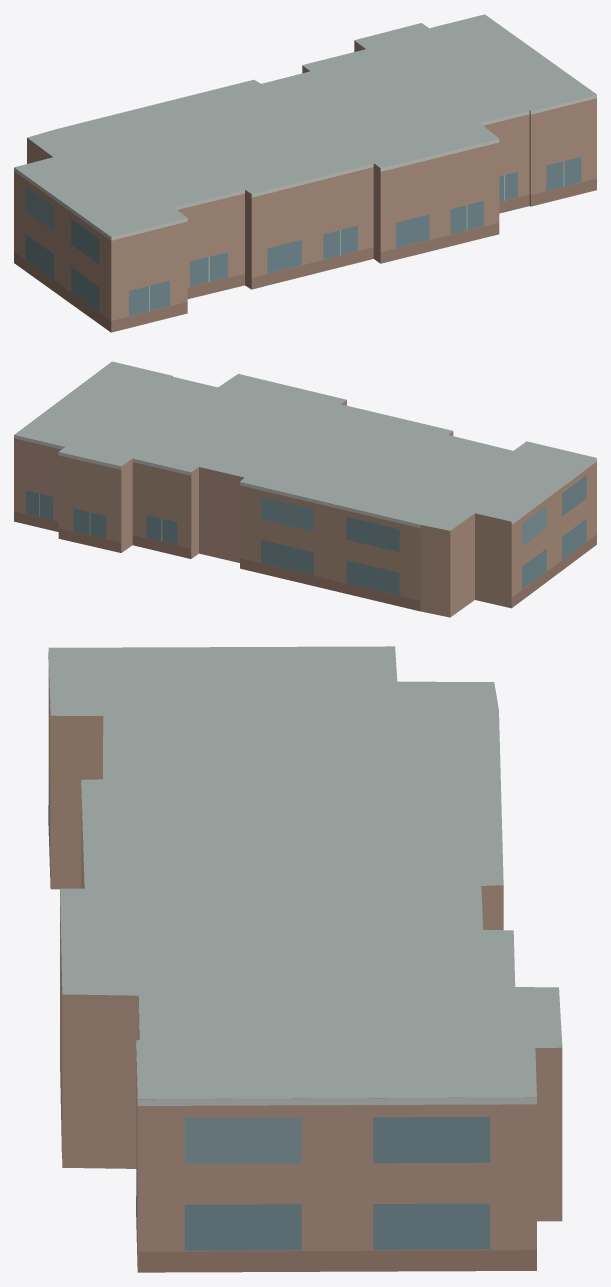
Rendered from survey-upis-32461980.glb.
3 renders of one model, top to bottom at view 1: azimuth 30°, elevation 25°; view 2: azimuth 150°, elevation 25°; view 3: azimuth 270°, elevation 25°, orthographic. The views are drawn at different scales.
Parts seen in each view (by area): view 1: survey-upis-32461980.tmp; view 2: survey-upis-32461980.tmp; view 3: survey-upis-32461980.tmp.
Boxes of the visible parts, x1,y1,x2,y2 form: survey-upis-32461980.tmp: (14, 14, 596, 332); survey-upis-32461980.tmp: (14, 361, 596, 617); survey-upis-32461980.tmp: (48, 646, 562, 1272).
Size of the model in its own units: 34.17 by 6.1 by 16.4.
